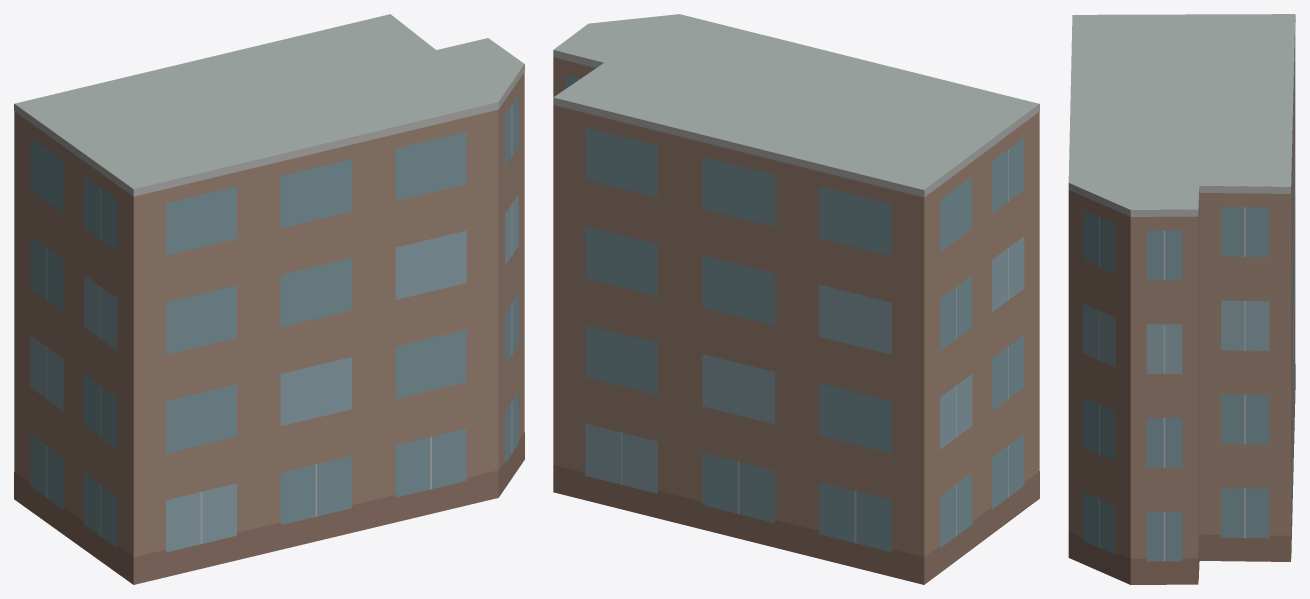
The model's file is survey-upis-32744238.glb.
The picture shows the model from 3 angles, left to right: view 1: azimuth 30°, elevation 25°; view 2: azimuth 150°, elevation 25°; view 3: azimuth 270°, elevation 25°; orthographic projection. The views are drawn at different scales.
Parts seen in each view (by area): view 1: survey-upis-32744238.tmp; view 2: survey-upis-32744238.tmp; view 3: survey-upis-32744238.tmp.
Part boxes in pixels (box(x1,y1,x2,y2)): survey-upis-32744238.tmp: box(14, 14, 524, 584); survey-upis-32744238.tmp: box(553, 14, 1039, 584); survey-upis-32744238.tmp: box(1068, 14, 1295, 584).
Size of the model in its own units: 14.63 by 13.05 by 7.16.
